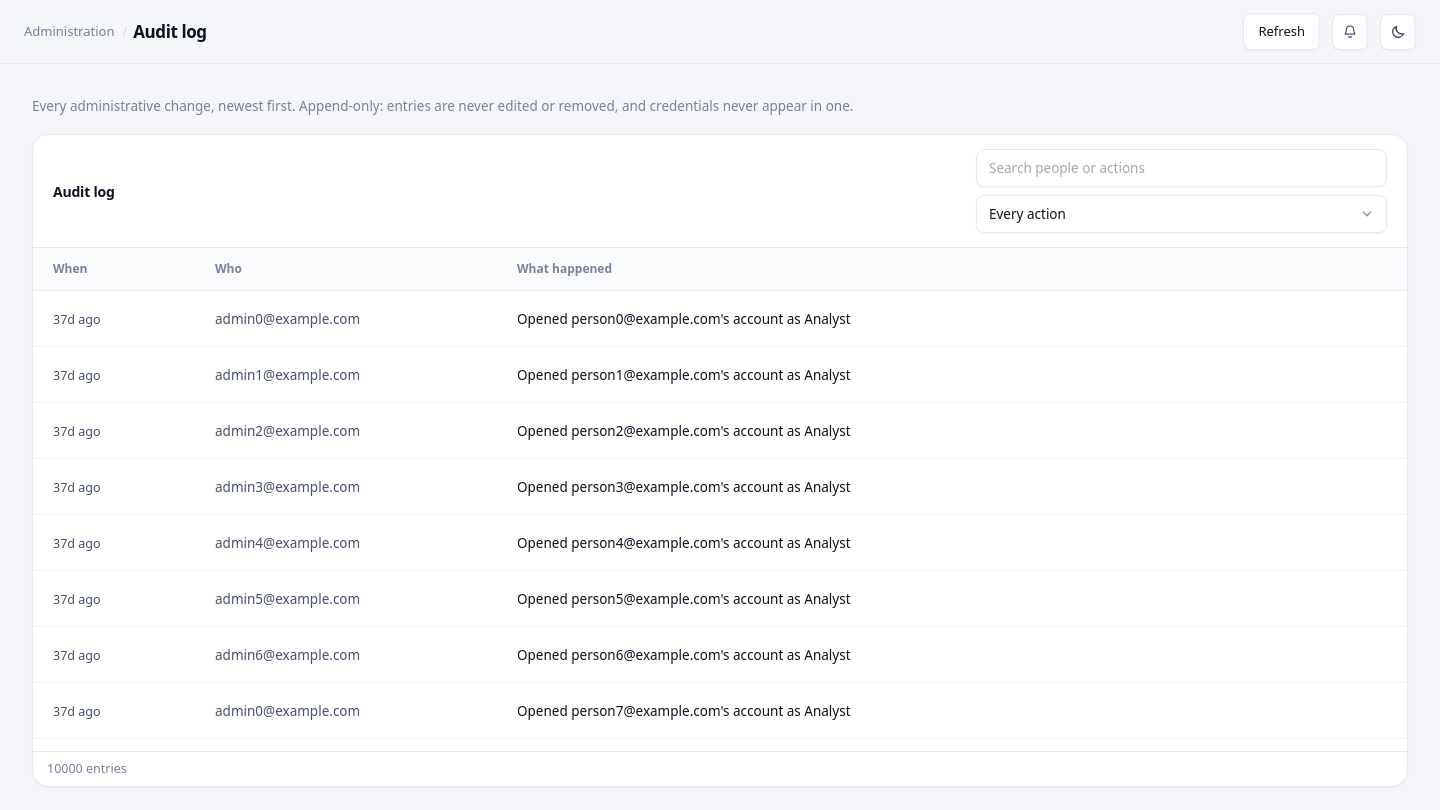
Test: at scale › keeps the window bounded after a filter narrows it
expect the text "10000 entries" is shown: met, box [47, 760, 127, 777]
Step 1. Type "admin3@" into the search field named "Search the audit log" → (1182, 168), box [976, 149, 1387, 187]
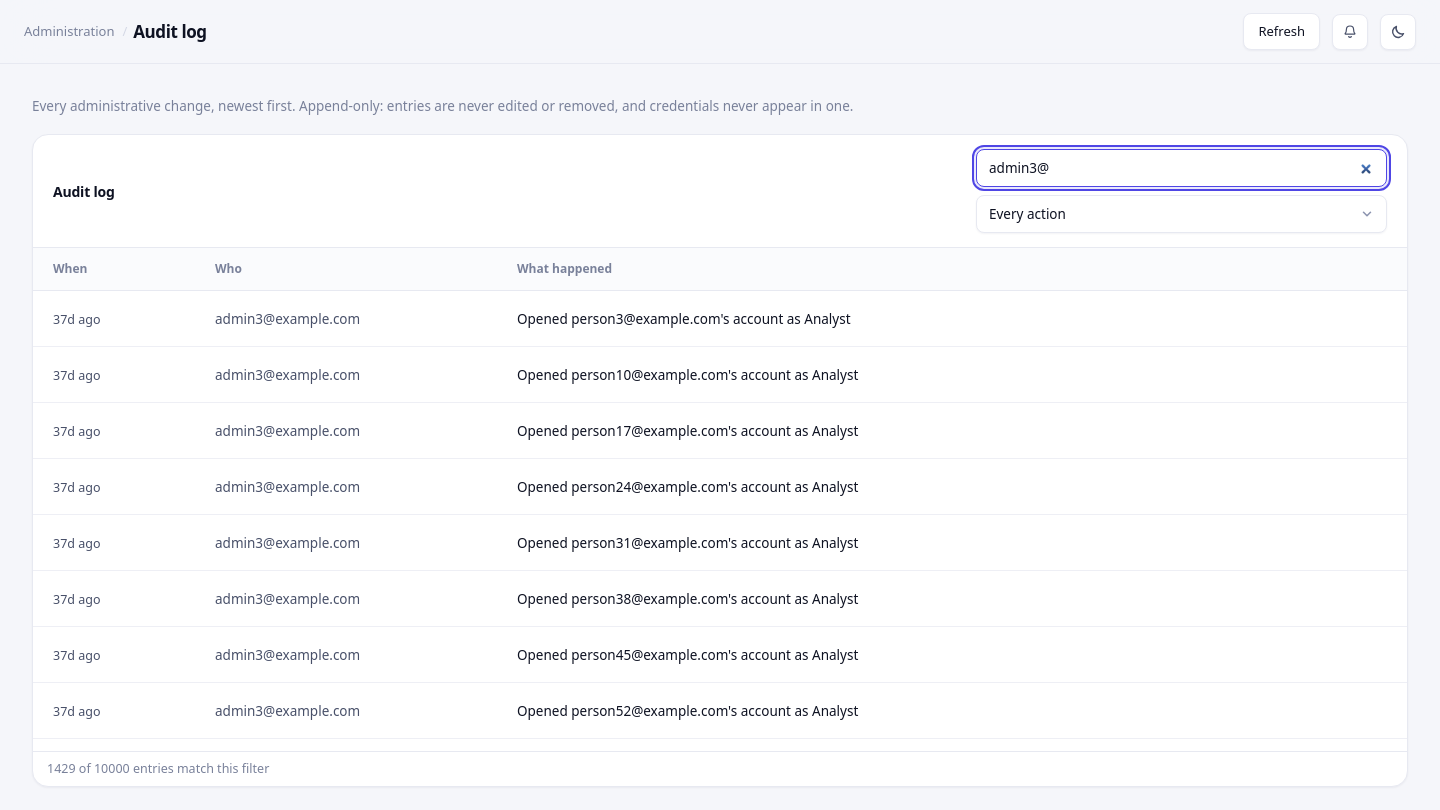
expect the text "1429 of 10000 entries match this filter" is shown: met, box [47, 760, 269, 777]
